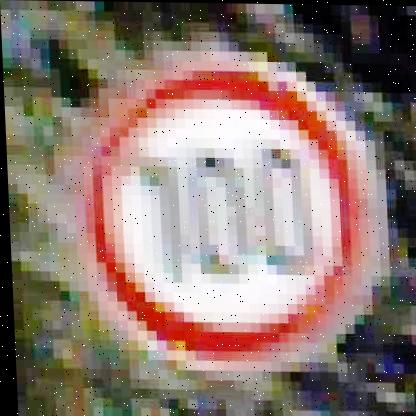Speed Limit -100-: (65, 49, 392, 375)
